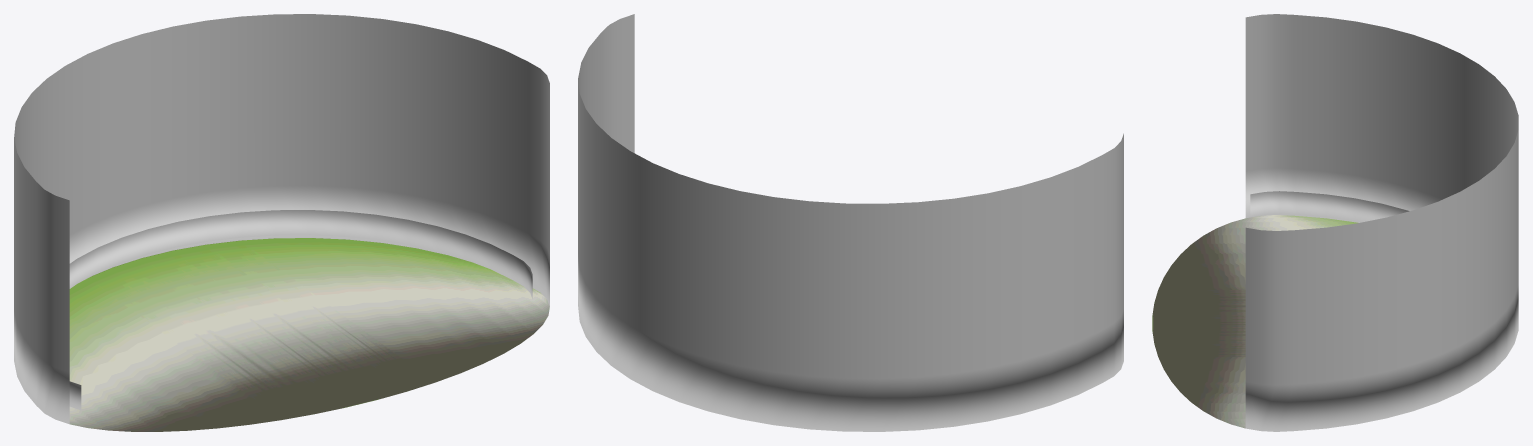
File: StageGrass3.fbx
The picture shows the model from 3 angles, left to right: view 1: azimuth 30°, elevation 25°; view 2: azimuth 150°, elevation 25°; view 3: azimuth 270°, elevation 25°; orthographic projection. The views are drawn at different scales.
Parts seen in each view (by area): view 1: batt_bg04a; view 2: batt_bg04a; view 3: batt_bg04a.
Part boxes in pixels (<box>): batt_bg04a: <box>14,14,549,431</box>; batt_bg04a: <box>578,14,1123,431</box>; batt_bg04a: <box>1152,14,1518,431</box>.
Bounding box in the file's own units: 69.65 × 30.06 × 49.68.
